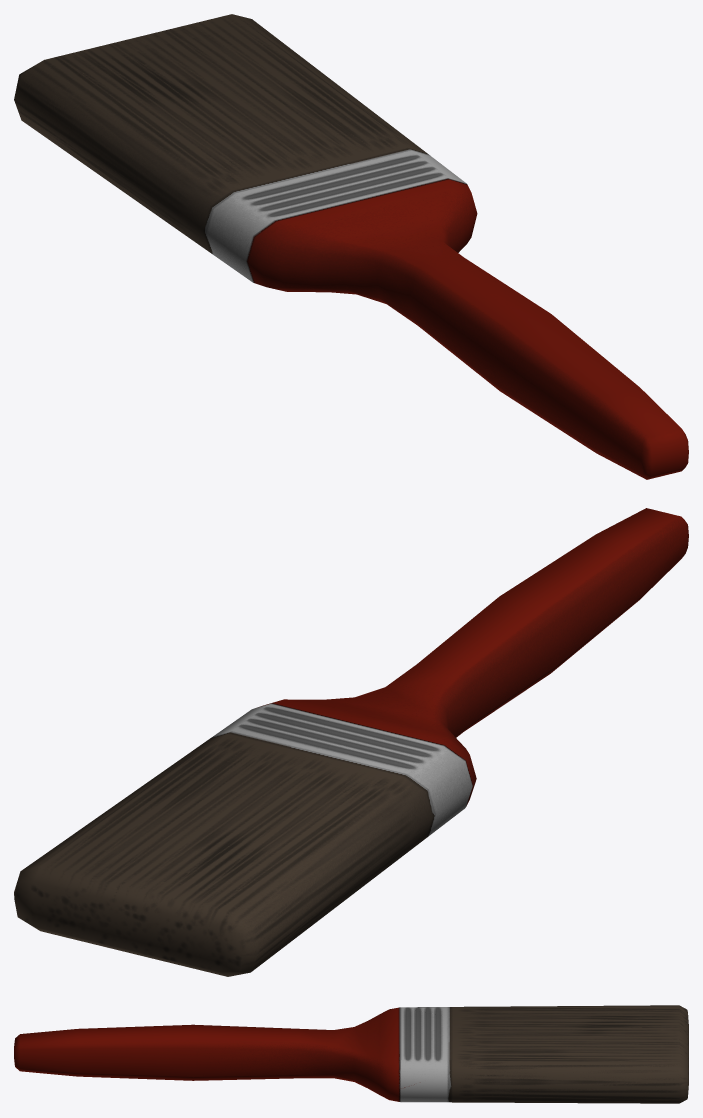
The model's file is brushes_01.fbx.
3 views of the same model, one above another, from view 1: azimuth 30°, elevation 25°; view 2: azimuth 150°, elevation 25°; view 3: azimuth 270°, elevation 25° (orthographic). The views are drawn at different scales.
Parts seen in each view (by area): view 1: brushes_01; view 2: brushes_01; view 3: brushes_01.
Boxes of the visible parts, left/top/right/bottom form: brushes_01: left=14, top=14, right=688, bottom=479; brushes_01: left=14, top=508, right=688, bottom=976; brushes_01: left=14, top=1005, right=688, bottom=1103.
Bounding box in the file's own units: 16.16 × 4.32 × 61.93.
